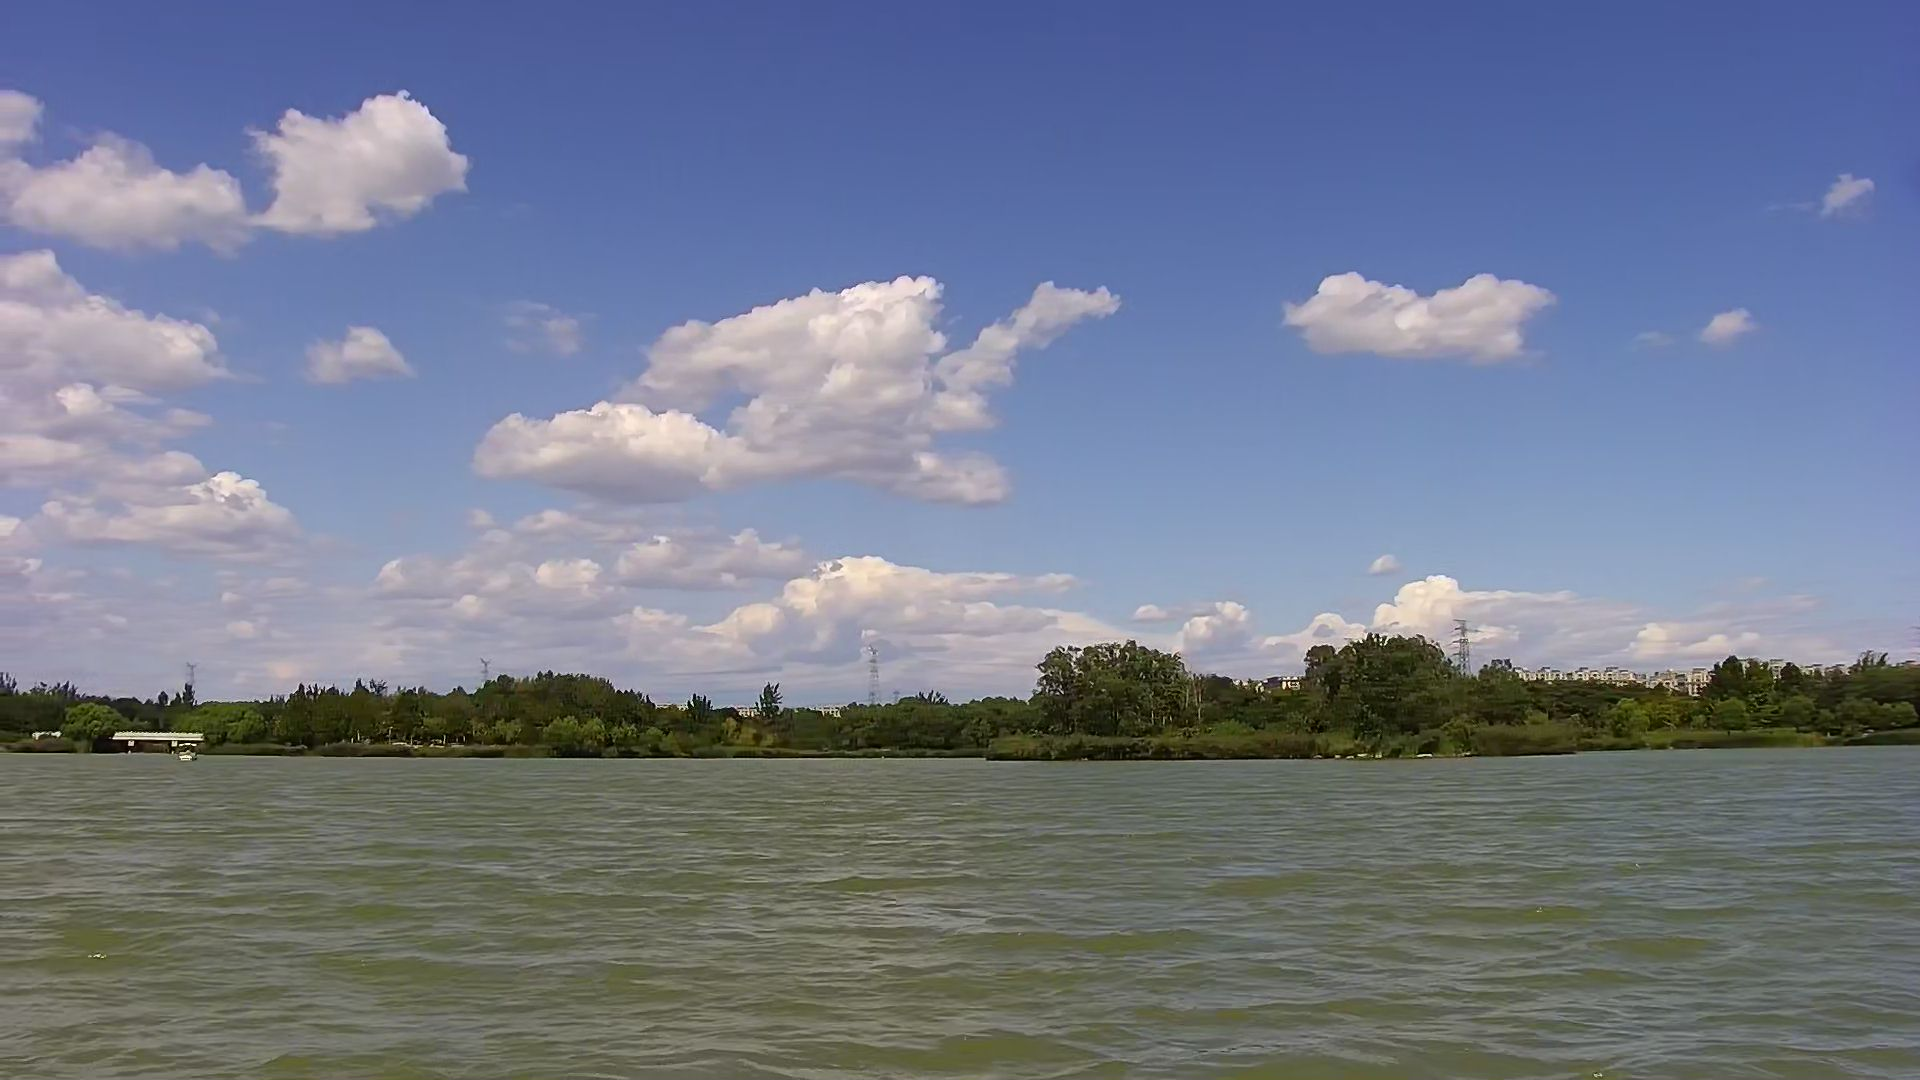boat: (173, 735, 207, 775)
bridge: (105, 720, 208, 752)
